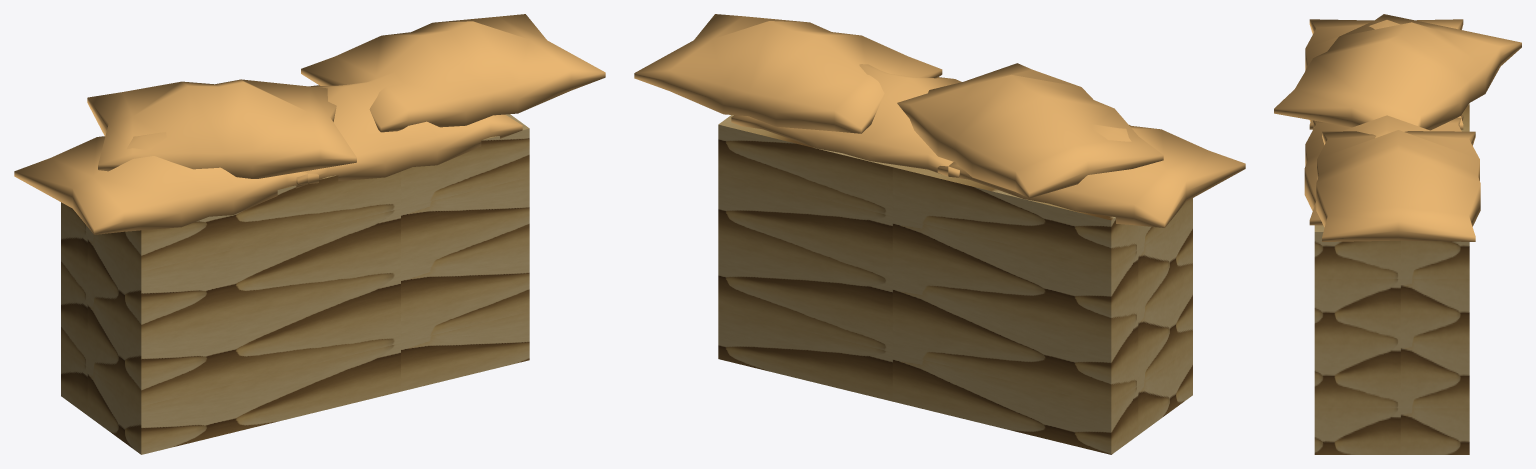
Rendered from Sandbag.fbx.
The picture shows the model from 3 angles, left to right: view 1: azimuth 30°, elevation 25°; view 2: azimuth 150°, elevation 25°; view 3: azimuth 270°, elevation 25°; orthographic projection. The views are drawn at different scales.
Parts seen in each view (by area): view 1: Sandbag_Straight; view 2: Sandbag_Straight; view 3: Sandbag_Straight.
Boxes of the visible parts, x1,y1,x2,y2 form: Sandbag_Straight: (14, 14, 605, 454); Sandbag_Straight: (634, 14, 1245, 454); Sandbag_Straight: (1274, 14, 1521, 454).
Bounding box in the file's own units: 0.0267 × 0.0153 × 0.0115.
